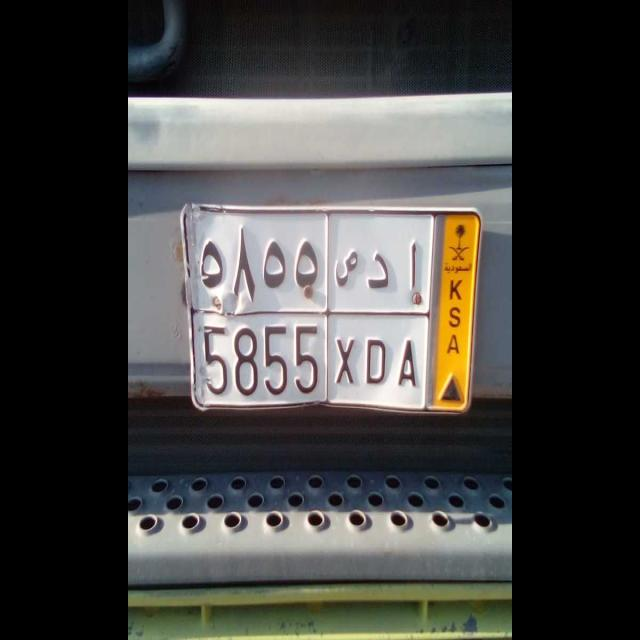license_plate: (185, 310, 428, 416)
